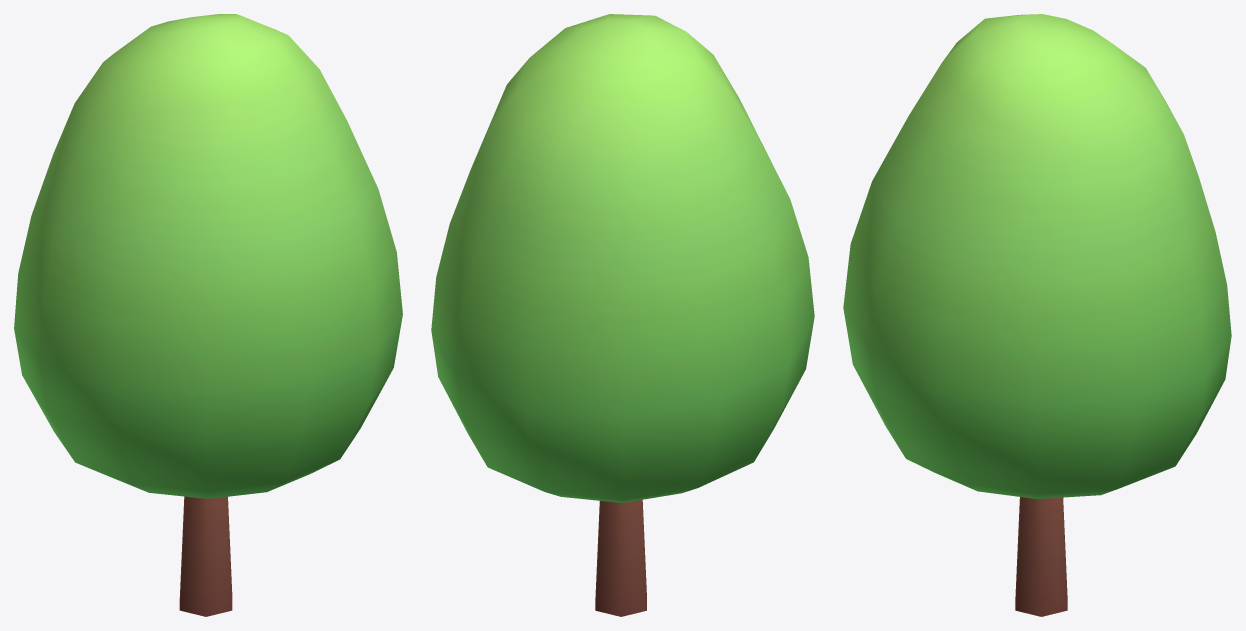
The model's file is city2-tree-06.glb.
The picture shows the model from 3 angles, left to right: view 1: azimuth 30°, elevation 25°; view 2: azimuth 150°, elevation 25°; view 3: azimuth 270°, elevation 25°; orthographic projection.
Parts seen in each view (by area): view 1: Tree_06; view 2: Tree_06; view 3: Tree_06.
Part boxes in pixels (x1,y1,x2,y2): Tree_06: (14, 14, 402, 616); Tree_06: (431, 14, 814, 616); Tree_06: (843, 14, 1231, 616).
Size of the model in its own units: 3.63 by 6.03 by 3.65.
1 material, 1 textured.
